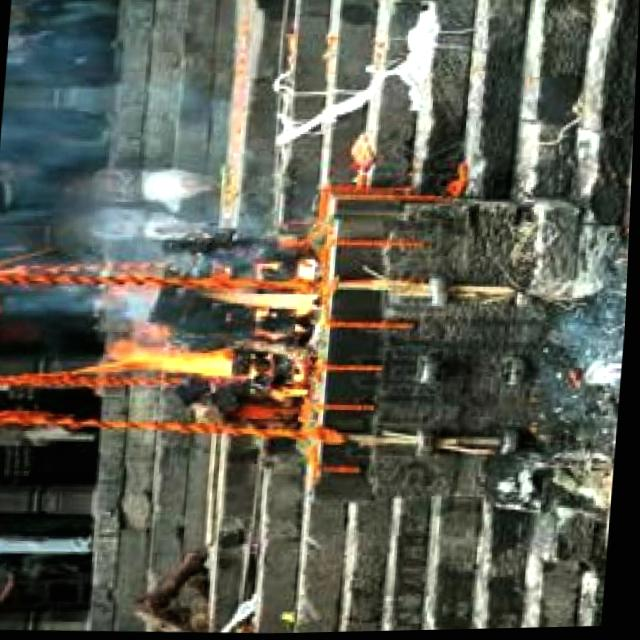Fire: (85, 251, 333, 397)
